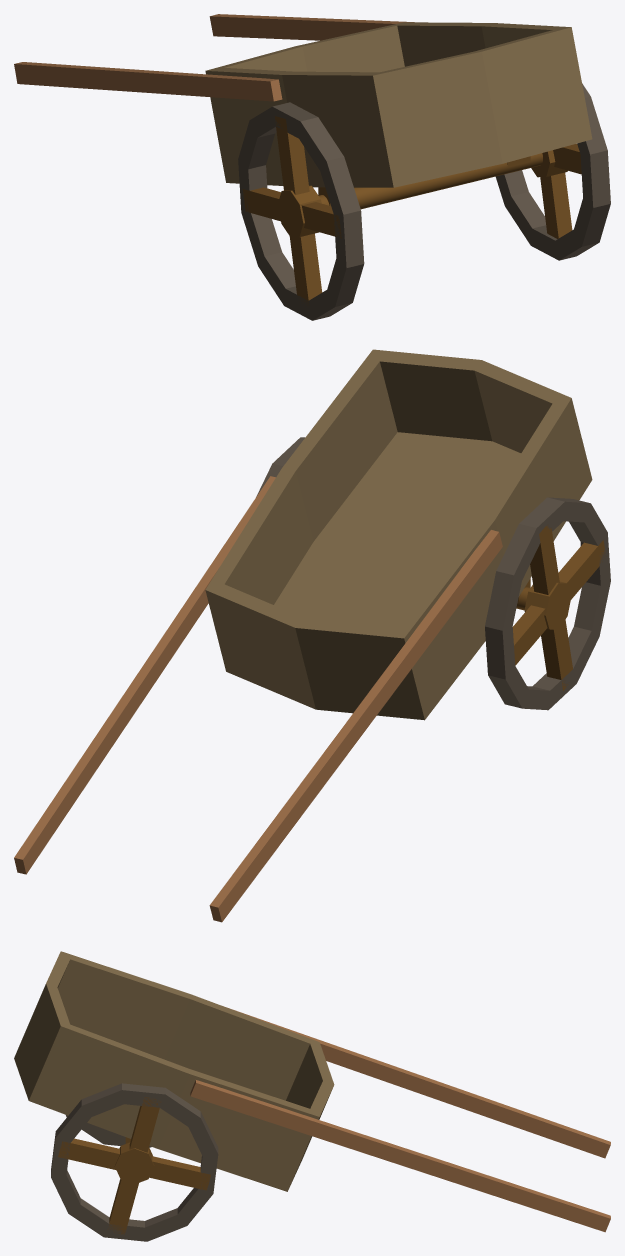
3 renders of one model, top to bottom at view 1: azimuth 30°, elevation 25°; view 2: azimuth 150°, elevation 25°; view 3: azimuth 270°, elevation 25°, orthographic. The views are drawn at different scales.
Parts seen in each view (by area): view 1: handcart; view 2: handcart; view 3: handcart.
Boxes of the visible parts, left/top/right/bottom form: handcart: left=14, top=14, right=610, bottom=320; handcart: left=14, top=349, right=610, bottom=922; handcart: left=14, top=951, right=610, bottom=1241.
Bounding box in the file's own units: 0.755 × 0.7334 × 1.89.
